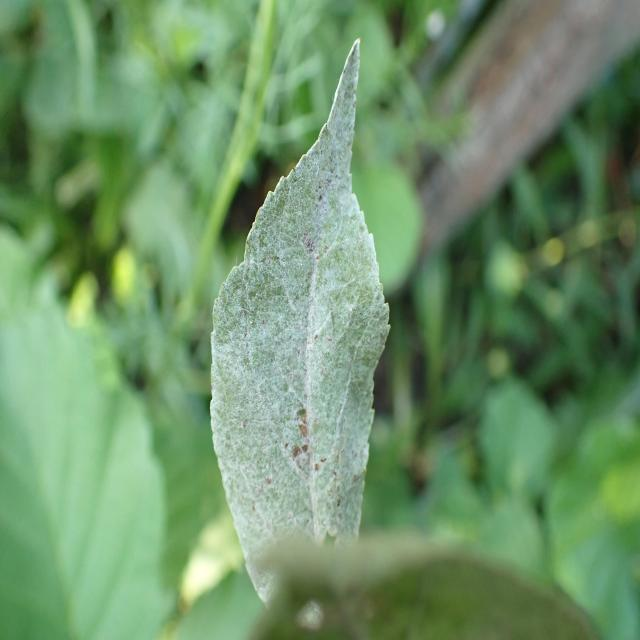Powdery_mildew: (206, 0, 432, 630)
